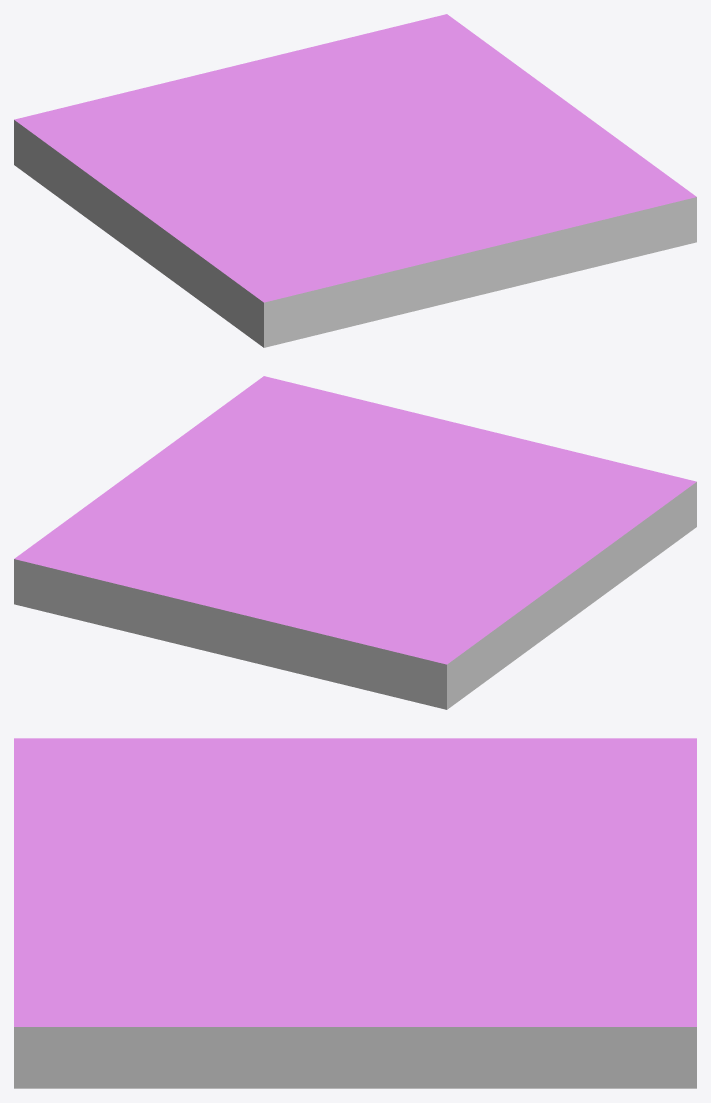
The model's file is MovingPlatform.fbx.
3 renders of one model, top to bottom at view 1: azimuth 30°, elevation 25°; view 2: azimuth 150°, elevation 25°; view 3: azimuth 270°, elevation 25°, orthographic. The views are drawn at different scales.
Parts seen in each view (by area): view 1: MovingPlatform; view 2: MovingPlatform; view 3: MovingPlatform.
Part boxes in pixels (<box>): MovingPlatform: <box>14,14,696,347</box>; MovingPlatform: <box>14,376,696,709</box>; MovingPlatform: <box>14,738,696,1088</box>.
Bounding box in the file's own units: 2.5 × 0.25 × 2.5.
